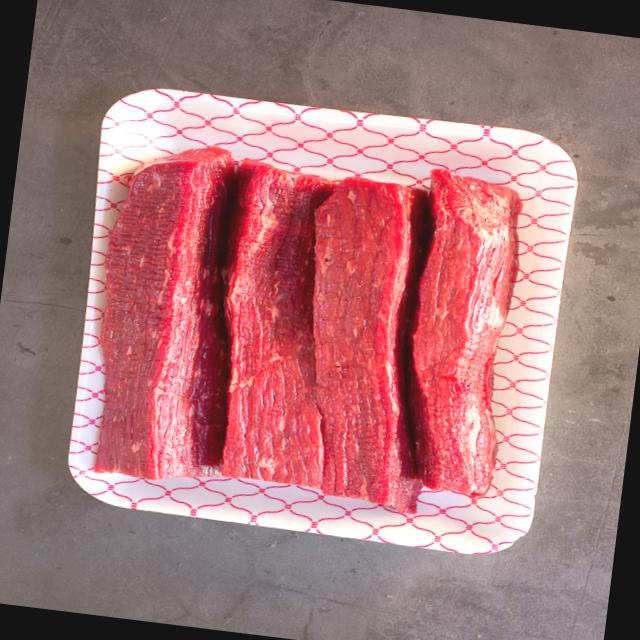beef: (77, 138, 250, 490), (280, 166, 441, 518), (212, 159, 351, 497), (395, 167, 530, 506)
